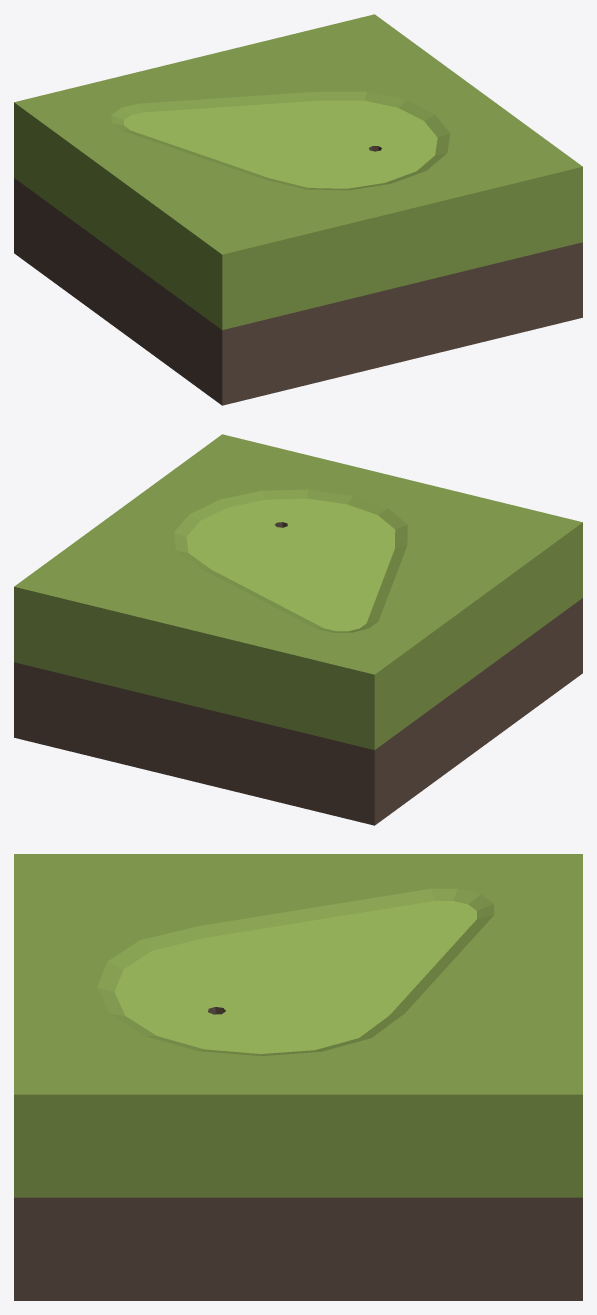
The model's file is grass-tile-golfGreen_01_small.fbx.
3 renders of one model, top to bottom at view 1: azimuth 30°, elevation 25°; view 2: azimuth 150°, elevation 25°; view 3: azimuth 270°, elevation 25°, orthographic. The views are drawn at different scales.
Visible parts, largest first — view 1: grass-tile-golfGreen_01_small; view 2: grass-tile-golfGreen_01_small; view 3: grass-tile-golfGreen_01_small.
Boxes of the visible parts, bbox=[...] form: grass-tile-golfGreen_01_small: bbox=[14, 14, 582, 405]; grass-tile-golfGreen_01_small: bbox=[14, 434, 582, 825]; grass-tile-golfGreen_01_small: bbox=[14, 854, 582, 1300].
Bounding box in the file's own units: 1000 × 400 × 1000.
